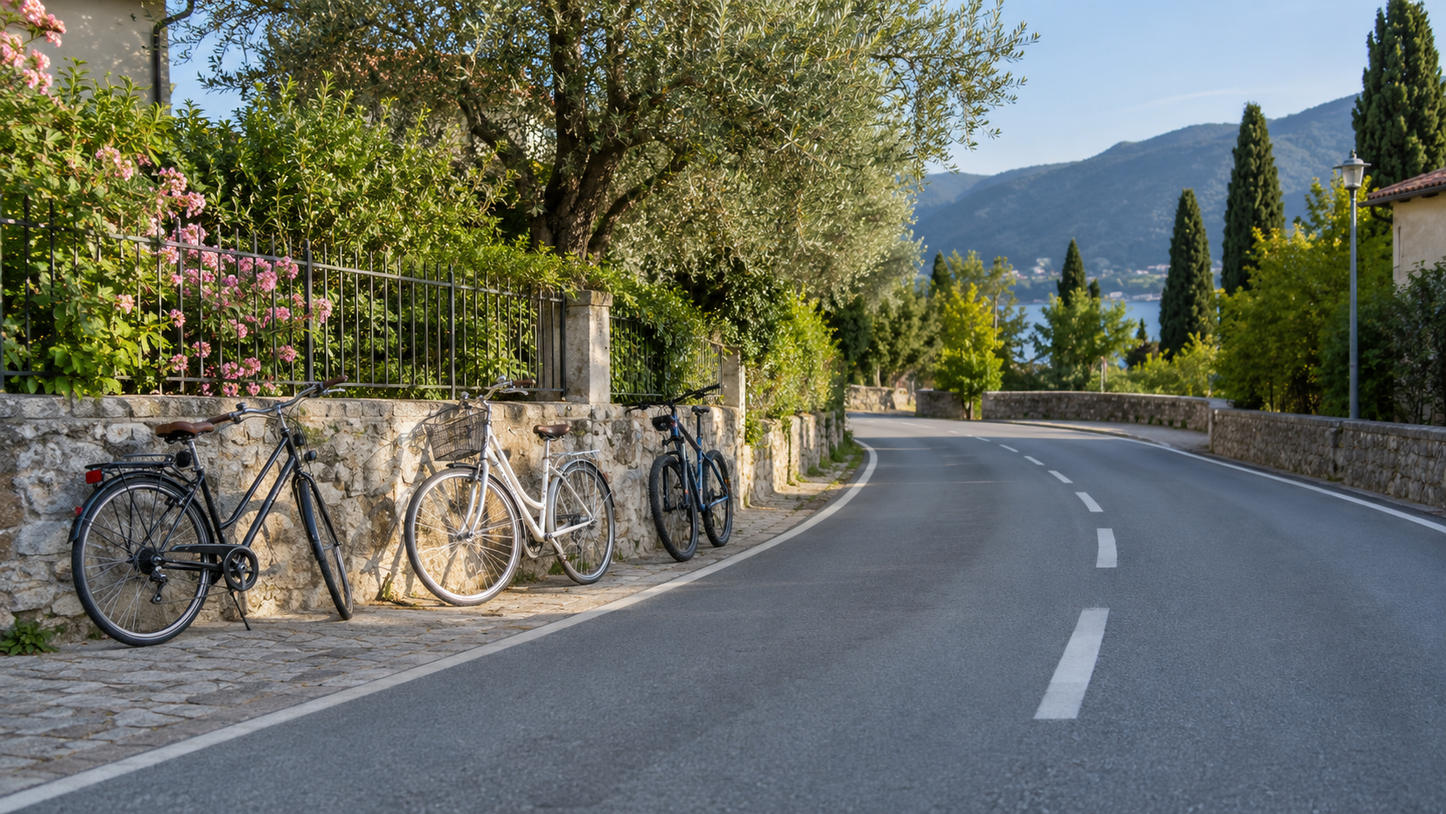bicycle: (62, 381, 357, 644), (402, 386, 617, 604), (645, 402, 739, 563)
